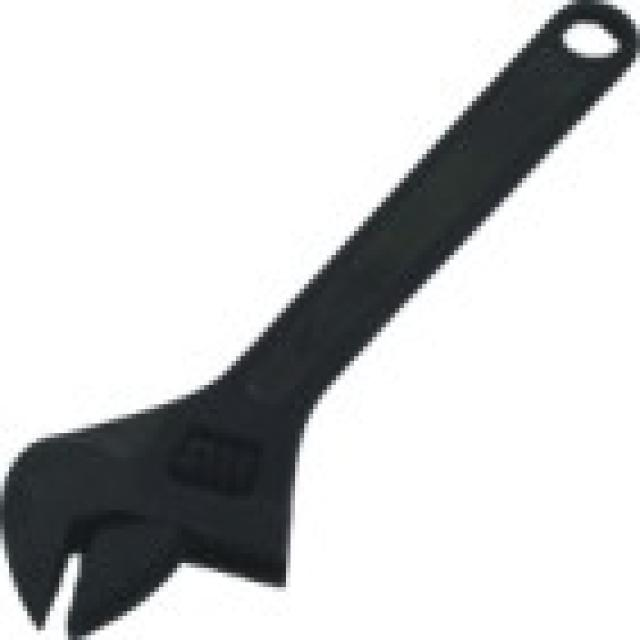wrench: (0, 0, 628, 629)
